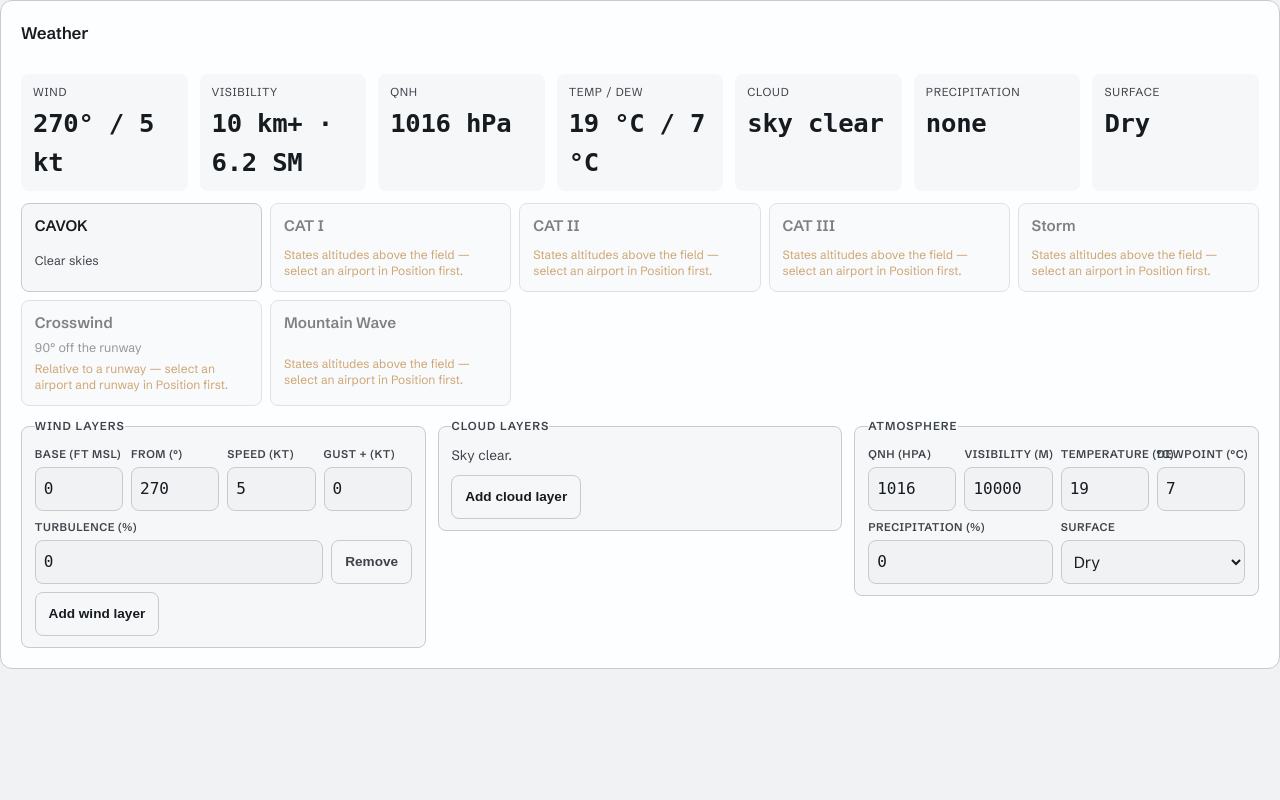
it: WeatherPanel › applies on Apply weather, and the wind stays untouched because CAVOK never states one
Click the button "CAVOK Clear skies".
click(142, 247)  # box [21,203,262,292]
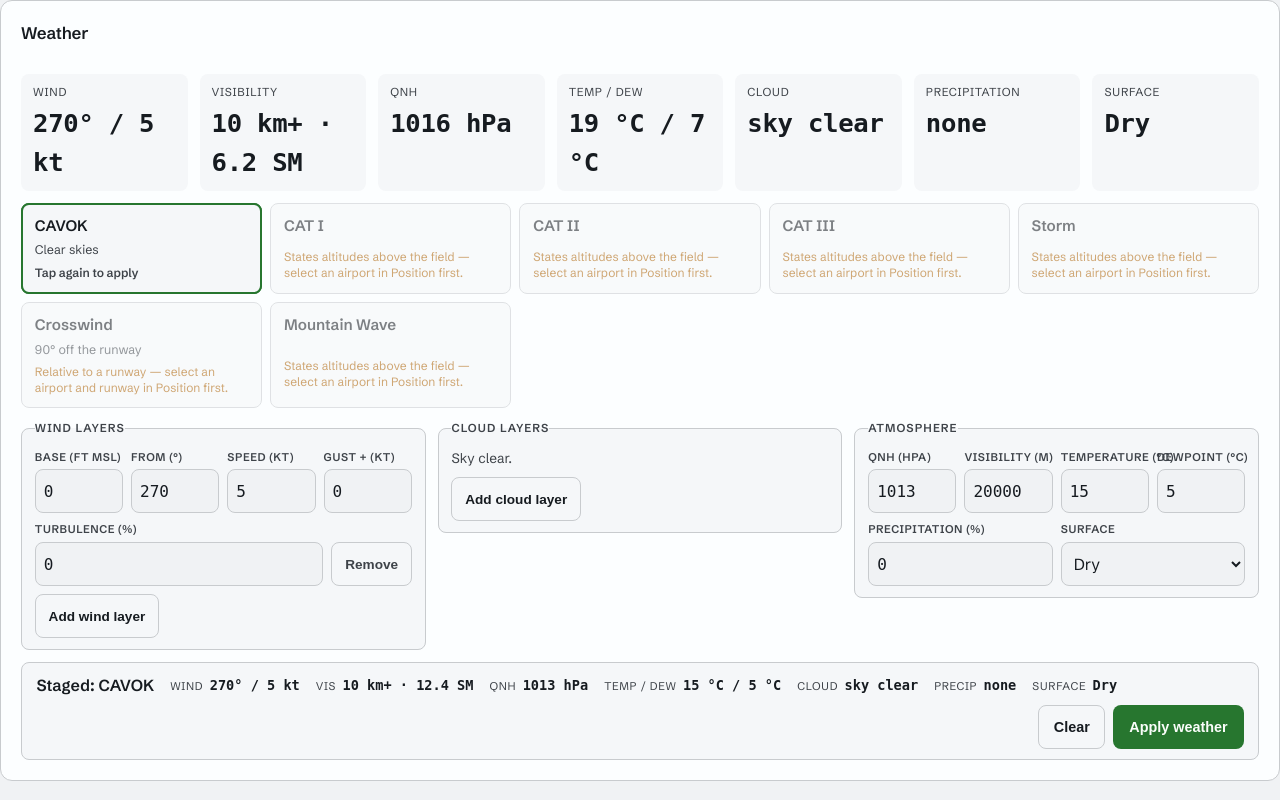
Expected: the text "Staged: CAVOK" is shown, [36,673,154,697]
Click the button "Apply weather".
click(1178, 727)  # box [1113,705,1244,749]
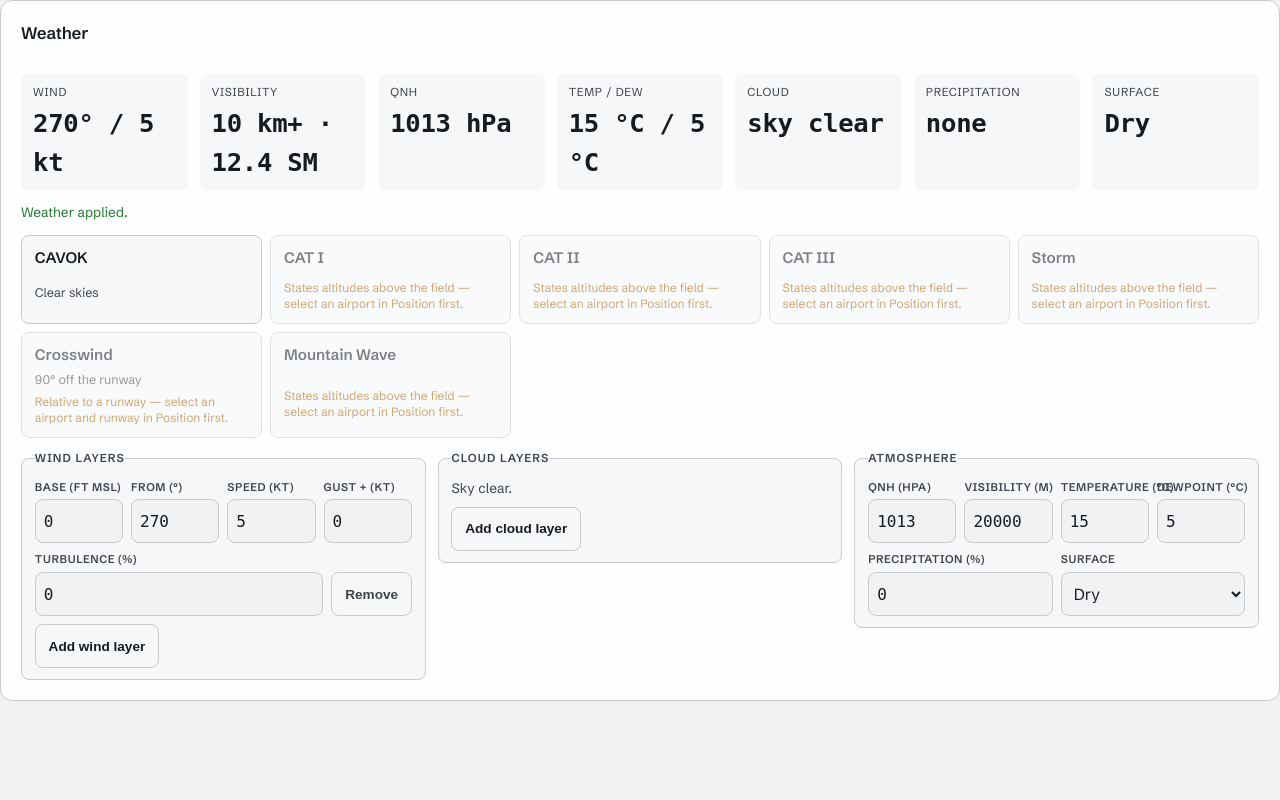
Expected: the button "Apply weather" is gone
Expected: the message reads "Weather applied.", [21,204,128,221]
Expected: the text "1013 hPa" is shown, [390,104,533,143]
